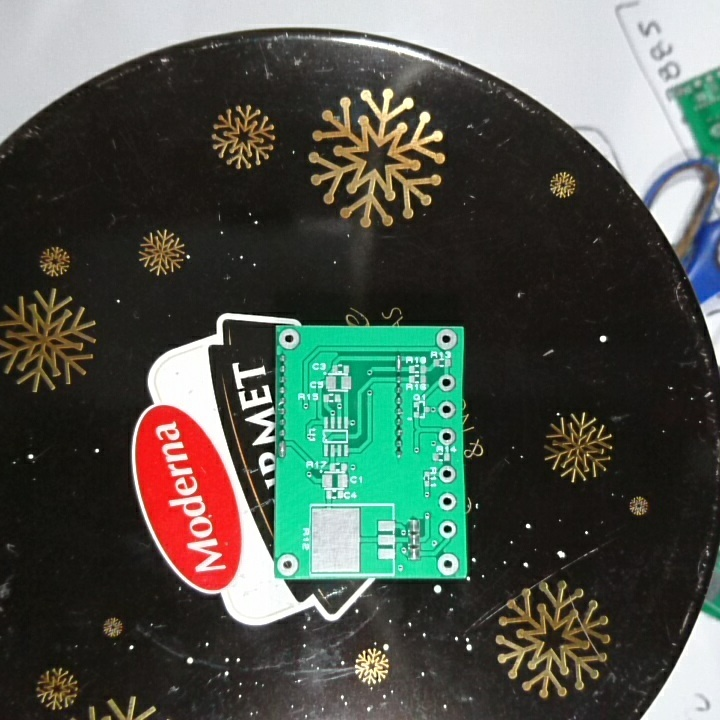F: (437, 551, 462, 577), (277, 326, 302, 352), (434, 328, 459, 353), (276, 552, 302, 576), (437, 492, 459, 513), (437, 399, 459, 420), (437, 372, 457, 393), (437, 426, 458, 446), (438, 519, 458, 539), (438, 463, 457, 484)
P: (277, 438, 288, 460), (394, 352, 404, 374)
